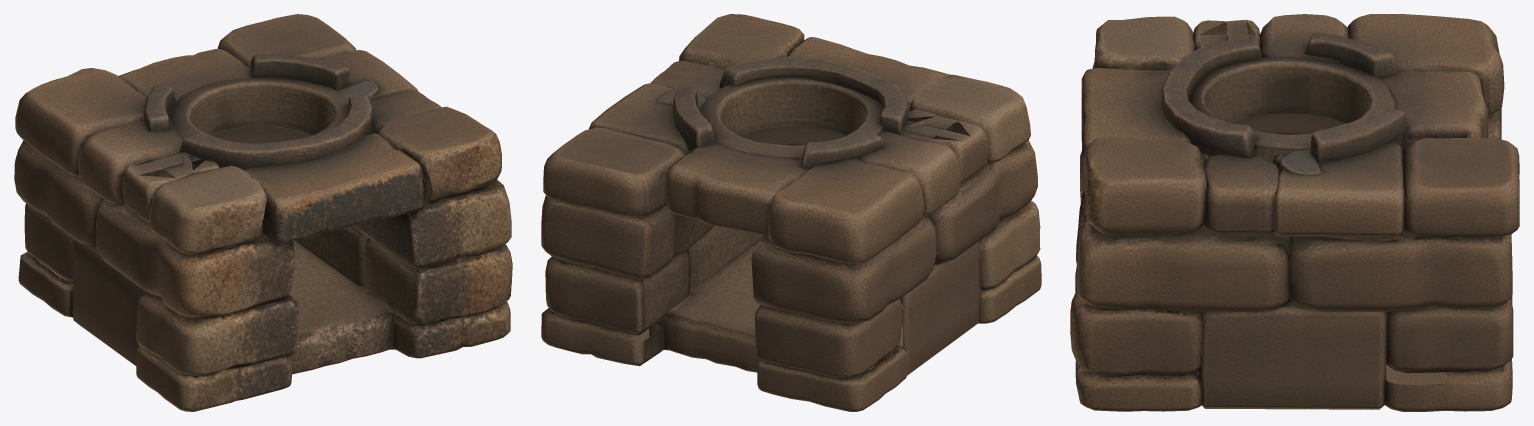
File: Crisol_Herrero.glb
3 views of the same model, side by side, from view 1: azimuth 30°, elevation 25°; view 2: azimuth 150°, elevation 25°; view 3: azimuth 270°, elevation 25° (orthographic). The views are drawn at different scales.
Visible parts, largest first — view 1: tripo_node_7aea9a05-2429-4f3b-b6b2-84994da84ee0; view 2: tripo_node_7aea9a05-2429-4f3b-b6b2-84994da84ee0; view 3: tripo_node_7aea9a05-2429-4f3b-b6b2-84994da84ee0.
Part boxes in pixels (box(x1,y1,x2,y2)): tripo_node_7aea9a05-2429-4f3b-b6b2-84994da84ee0: box(14, 14, 512, 411); tripo_node_7aea9a05-2429-4f3b-b6b2-84994da84ee0: box(541, 14, 1041, 411); tripo_node_7aea9a05-2429-4f3b-b6b2-84994da84ee0: box(1070, 14, 1519, 411).
Size of the model in its own units: 0.9663 by 0.5991 by 0.9995.
1 material, 1 textured.
